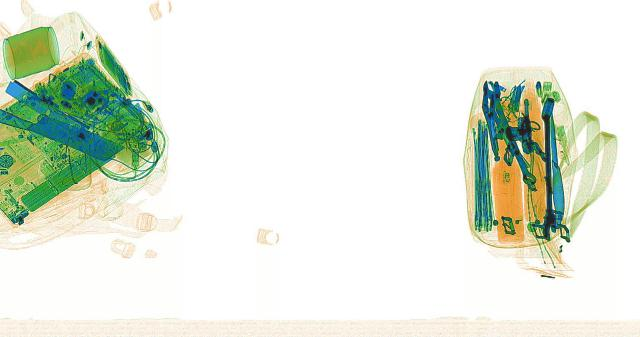Gun: (504, 99, 532, 143)
Knife: (0, 105, 129, 161)
Wrench: (478, 78, 542, 185)
